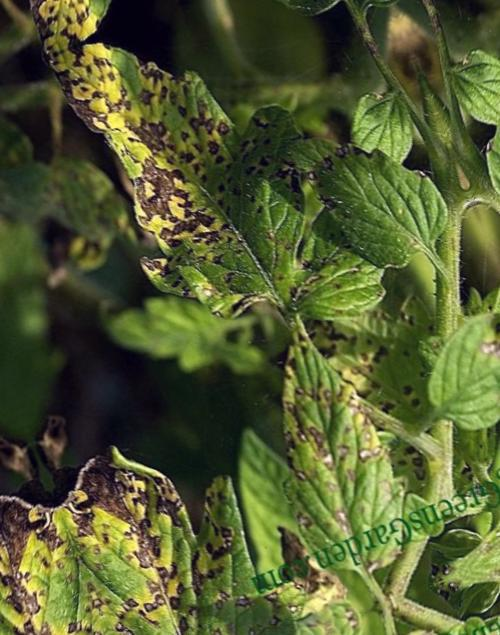Tomato Septoria leaf spot: (39, 0, 331, 363), (222, 297, 428, 587), (49, 404, 297, 635)
